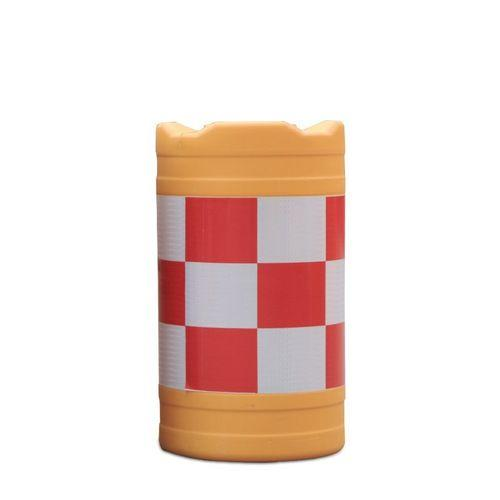sign: (142, 108, 360, 468)
